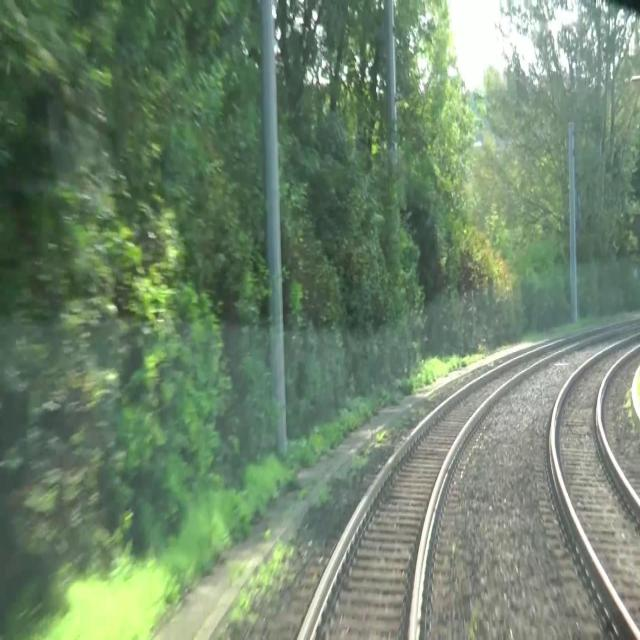rail-track: (302, 321, 633, 639), (555, 335, 640, 630)
